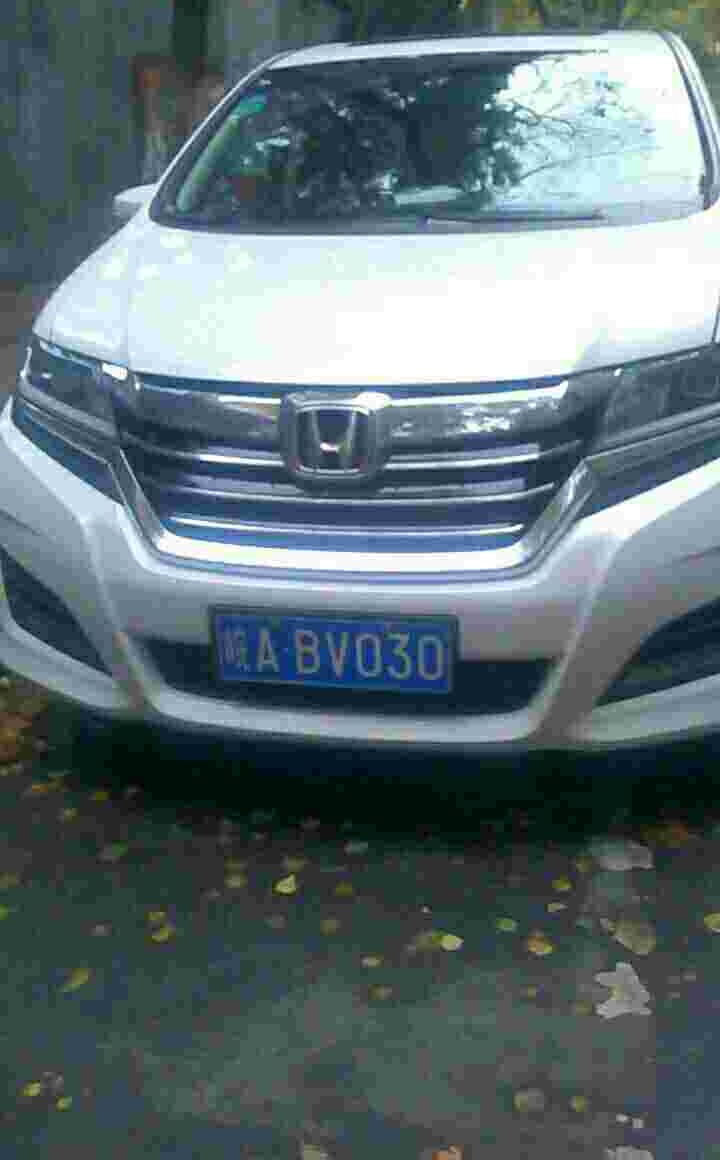license_plate: (217, 612, 447, 701)
